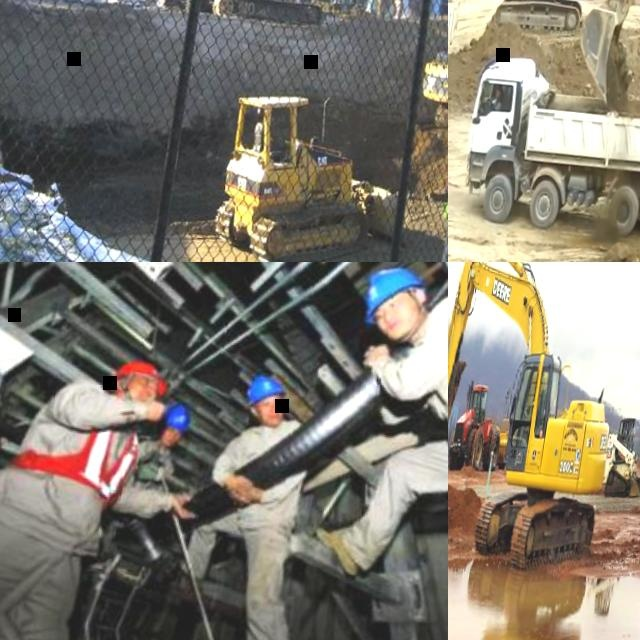Hardhat: (361, 263, 425, 322), (108, 357, 171, 396), (243, 373, 291, 412), (165, 405, 192, 434)
NO-Hardhat: (497, 87, 503, 92)
NO-Mask: (381, 311, 418, 340), (118, 384, 152, 406), (264, 410, 283, 426), (158, 430, 175, 446)
NO-Safety Vest: (407, 293, 448, 468), (235, 421, 308, 507), (127, 442, 173, 484), (495, 98, 503, 108)
Person: (306, 262, 448, 615), (0, 333, 221, 549), (174, 367, 322, 615), (118, 397, 188, 492), (492, 88, 505, 111)
Safety Vest: (17, 410, 143, 502)
machinery: (448, 262, 640, 571), (458, 49, 640, 250), (214, 84, 414, 262), (567, 0, 640, 177), (204, 0, 414, 42), (448, 378, 516, 475), (600, 413, 640, 500)
